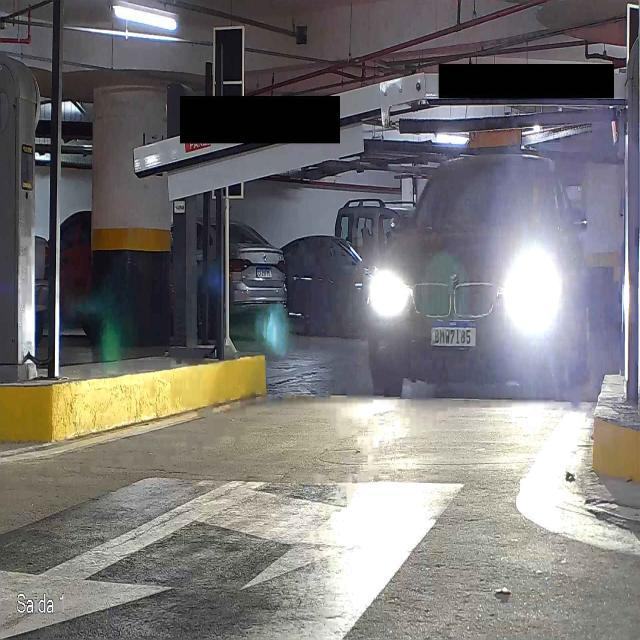mercosul_plate: (429, 319, 478, 348)
